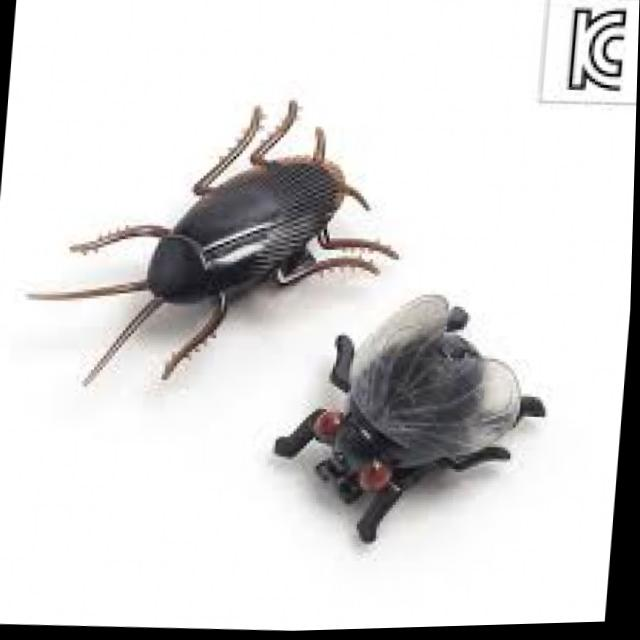Cockroach: (51, 72, 423, 398)
